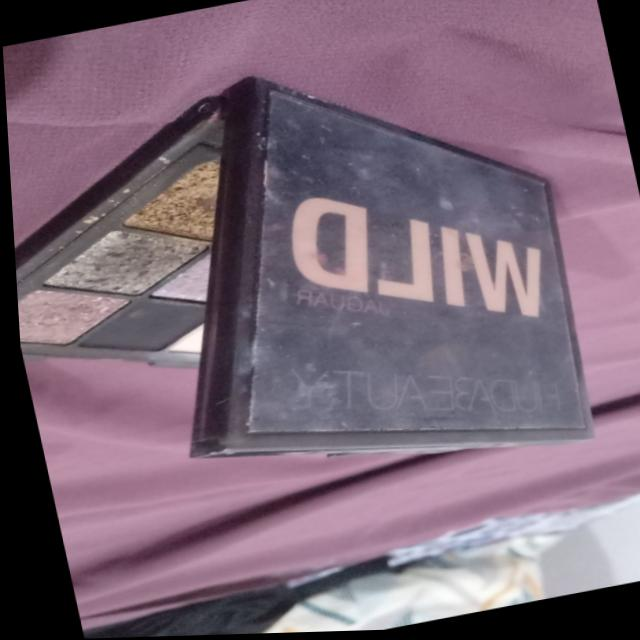eye shade: (6, 118, 319, 395)
